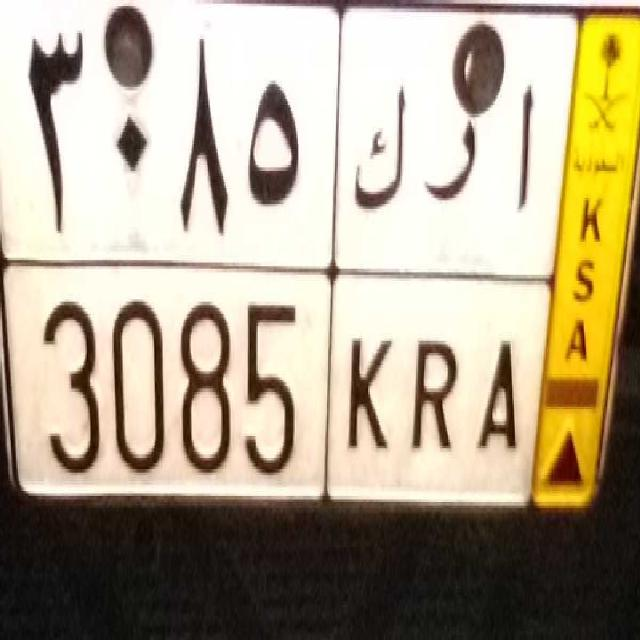license_plate: (7, 244, 544, 523)
